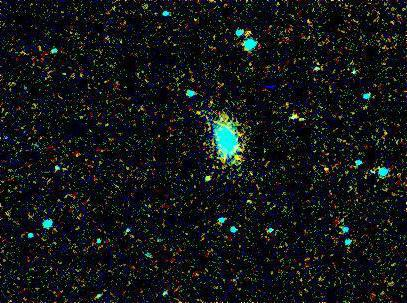star: (231, 18, 261, 48)
